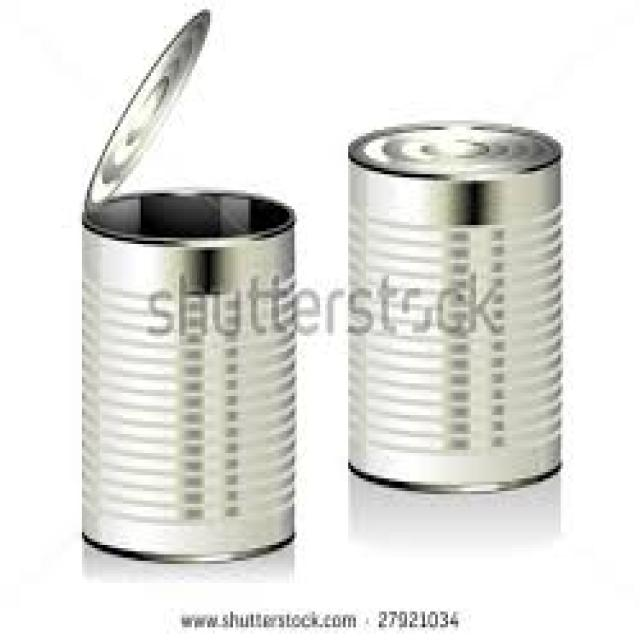metal: (343, 117, 561, 494), (79, 187, 292, 558), (82, 6, 207, 209)
